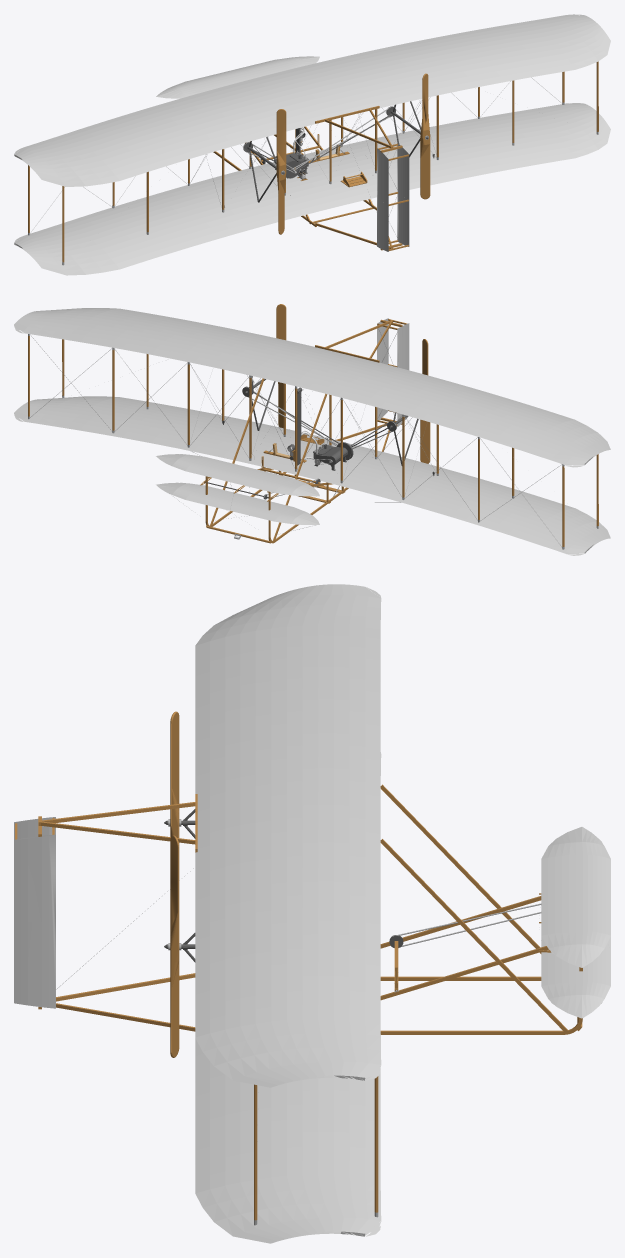
The picture shows the model from 3 angles, top to bottom: view 1: azimuth 30°, elevation 25°; view 2: azimuth 150°, elevation 25°; view 3: azimuth 270°, elevation 25°; orthographic projection. The views are drawn at different scales.
Parts seen in each view (by area): view 1: Mesh_0.001; view 2: Mesh_0.001; view 3: Mesh_0.001.
Boxes of the visible parts, bbox=[...] form: Mesh_0.001: bbox=[14, 14, 610, 275]; Mesh_0.001: bbox=[14, 304, 610, 555]; Mesh_0.001: bbox=[14, 584, 610, 1243].
Size of the model in its own units: 1250090 by 278792 by 641855.
